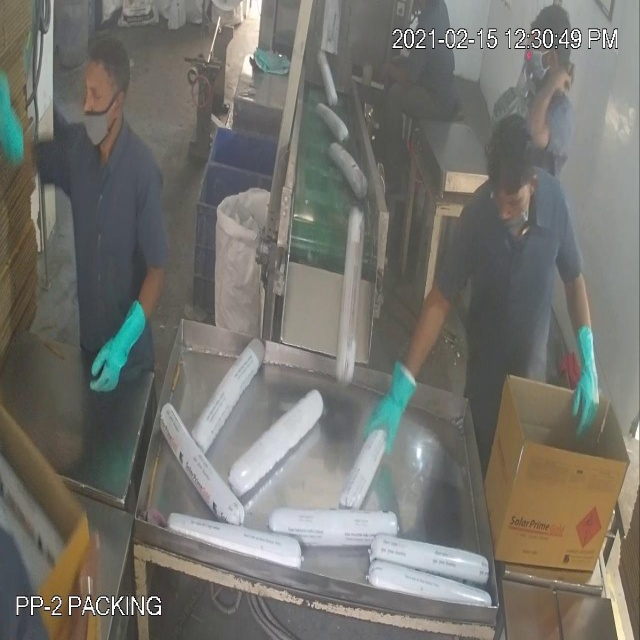Guantes: (81, 279, 153, 413), (361, 339, 425, 468), (564, 296, 612, 445), (1, 68, 52, 198)
Sin_guantes: (524, 58, 572, 156), (366, 55, 427, 103)
